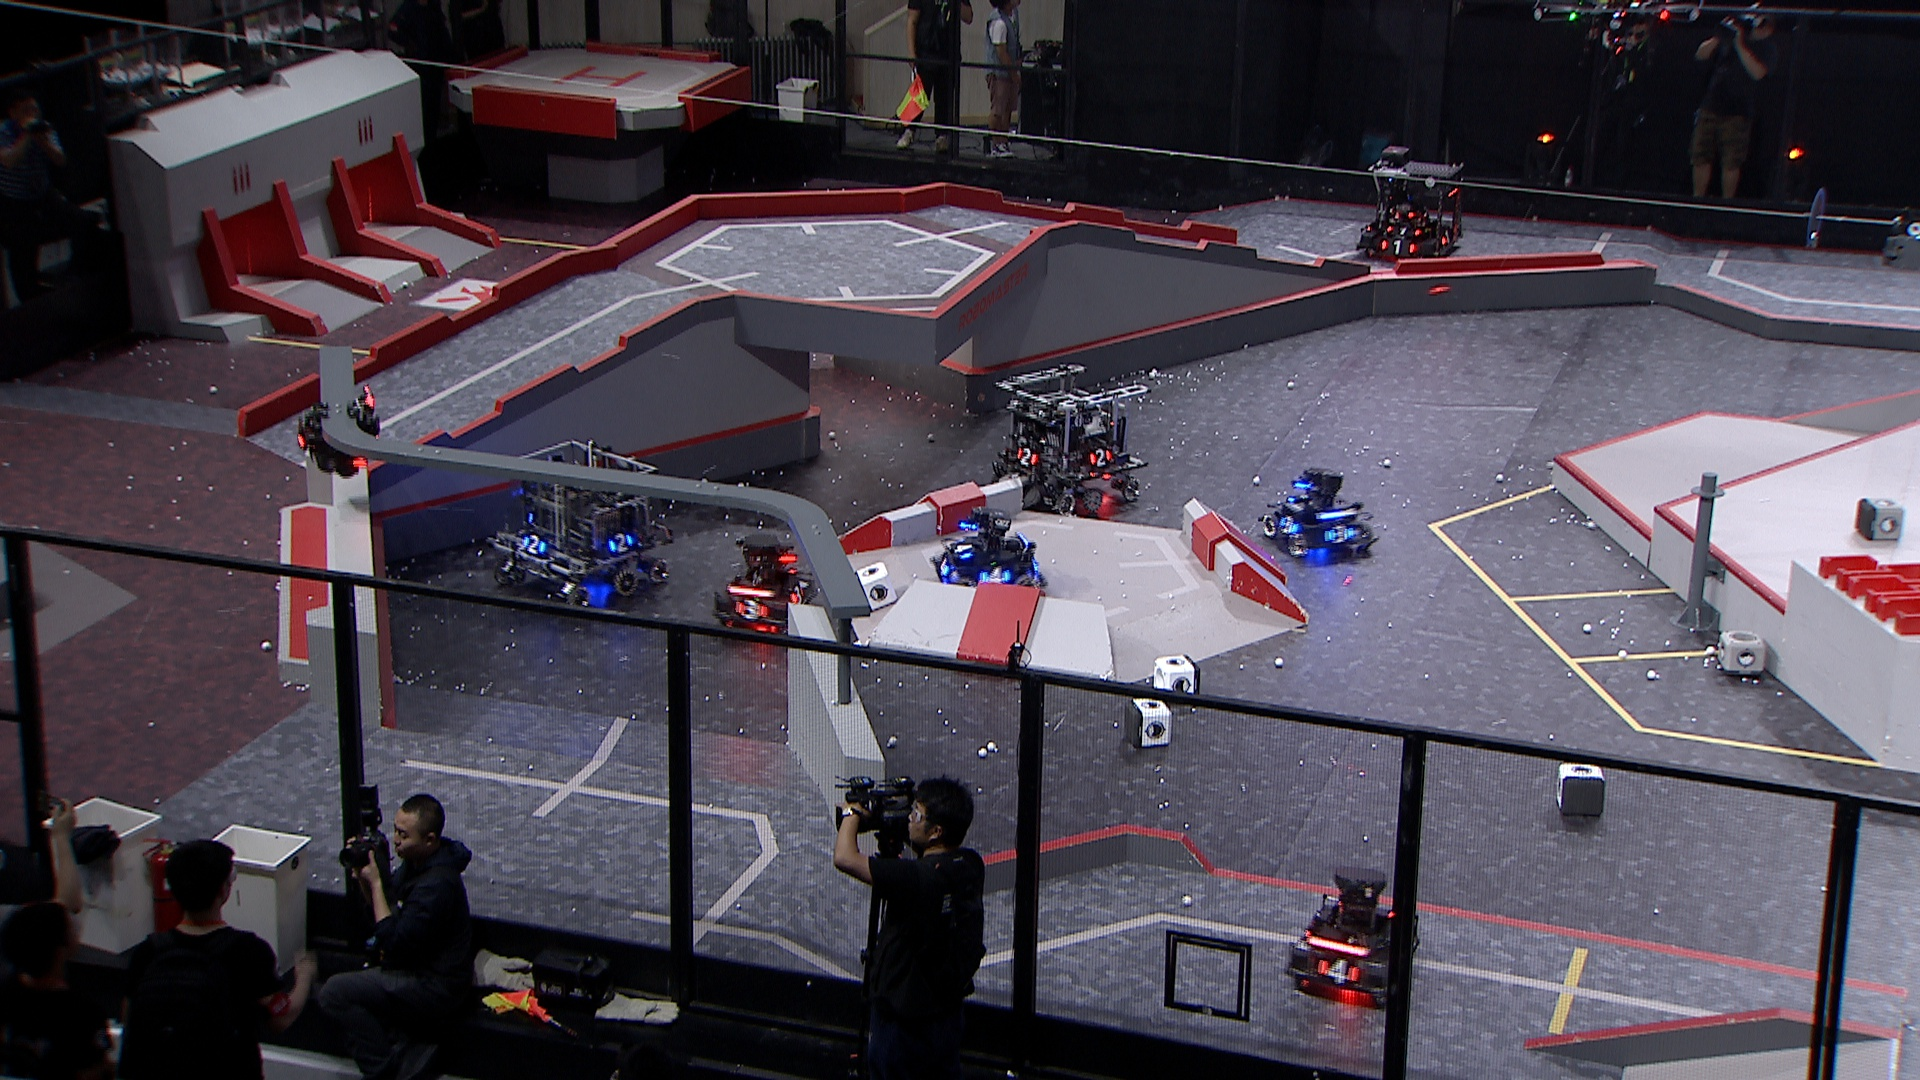armor: (1317, 956, 1361, 986), (735, 595, 770, 624), (1323, 526, 1357, 547), (1379, 239, 1418, 257), (1013, 447, 1043, 469), (978, 566, 1011, 585), (608, 533, 636, 555), (522, 534, 547, 556), (1385, 224, 1423, 237), (953, 537, 975, 560), (935, 555, 955, 579), (1280, 513, 1300, 537), (1091, 447, 1112, 465), (789, 584, 806, 607), (1441, 228, 1457, 247)
car: (487, 440, 675, 611), (992, 363, 1154, 516), (1286, 864, 1423, 1011), (1354, 144, 1468, 262), (1261, 465, 1385, 560), (927, 505, 1048, 599), (713, 531, 818, 638)
watcher: (295, 385, 384, 481)
